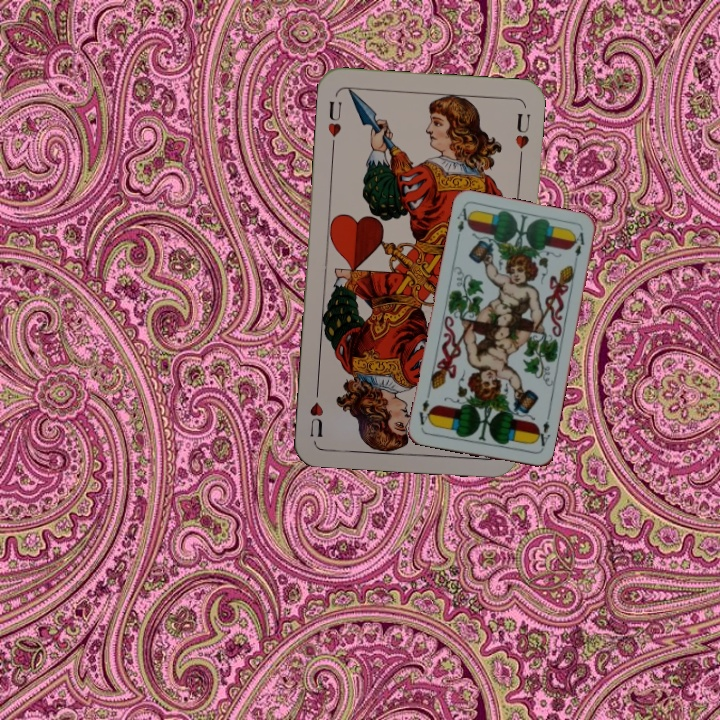EA: (531, 412, 552, 453), (453, 204, 474, 244)
HU: (324, 96, 344, 151)
